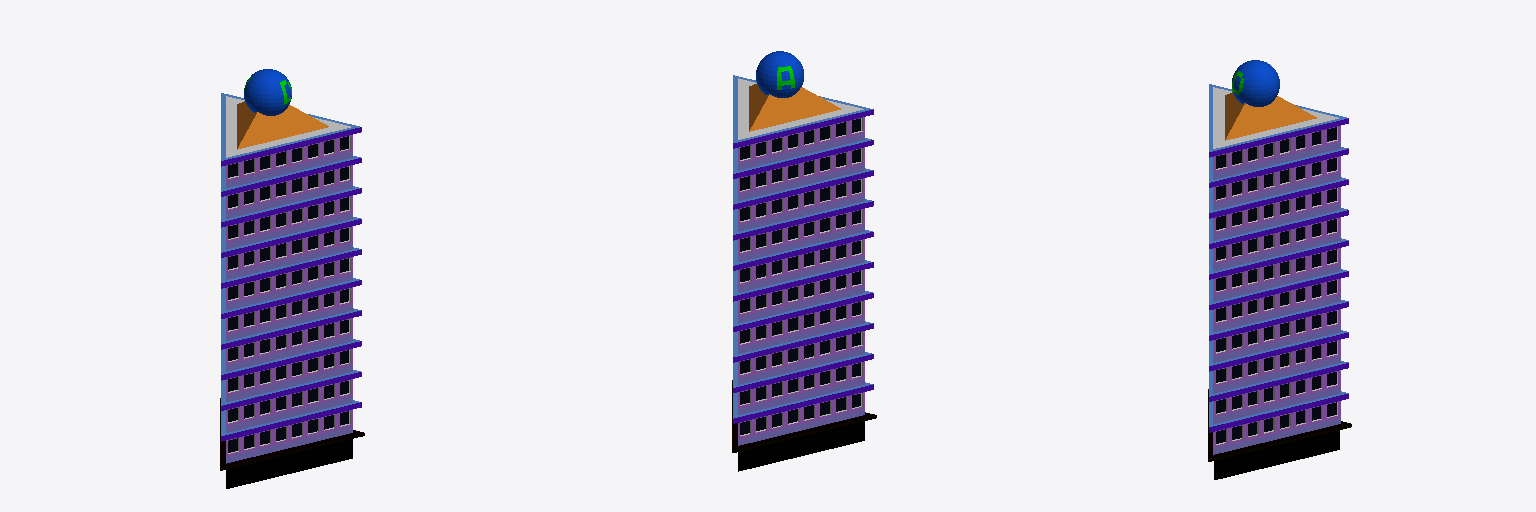
The model's file is EdificioTriangulo.obj.
3 views of the same model, side by side, from view 1: azimuth 30°, elevation 25°; view 2: azimuth 150°, elevation 25°; view 3: azimuth 270°, elevation 25° (orthographic).
Visible parts, largest first — view 1: Circle.001, Circle.002, Circle; view 2: Circle.001, Circle.002, Circle; view 3: Circle.001, Circle.002, Circle.
Boxes of the visible parts, <box> form: Circle.001: <box>221,93,361,463</box>; Circle.002: <box>237,69,328,149</box>; Circle: <box>220,398,364,488</box>; Circle.001: <box>733,75,873,445</box>; Circle.002: <box>749,51,840,131</box>; Circle: <box>732,380,876,471</box>; Circle.001: <box>1209,84,1348,454</box>; Circle.002: <box>1225,60,1316,140</box>; Circle: <box>1208,389,1351,479</box>.
Bounding box in the file's own units: 6.89 × 17.6 × 5.96.